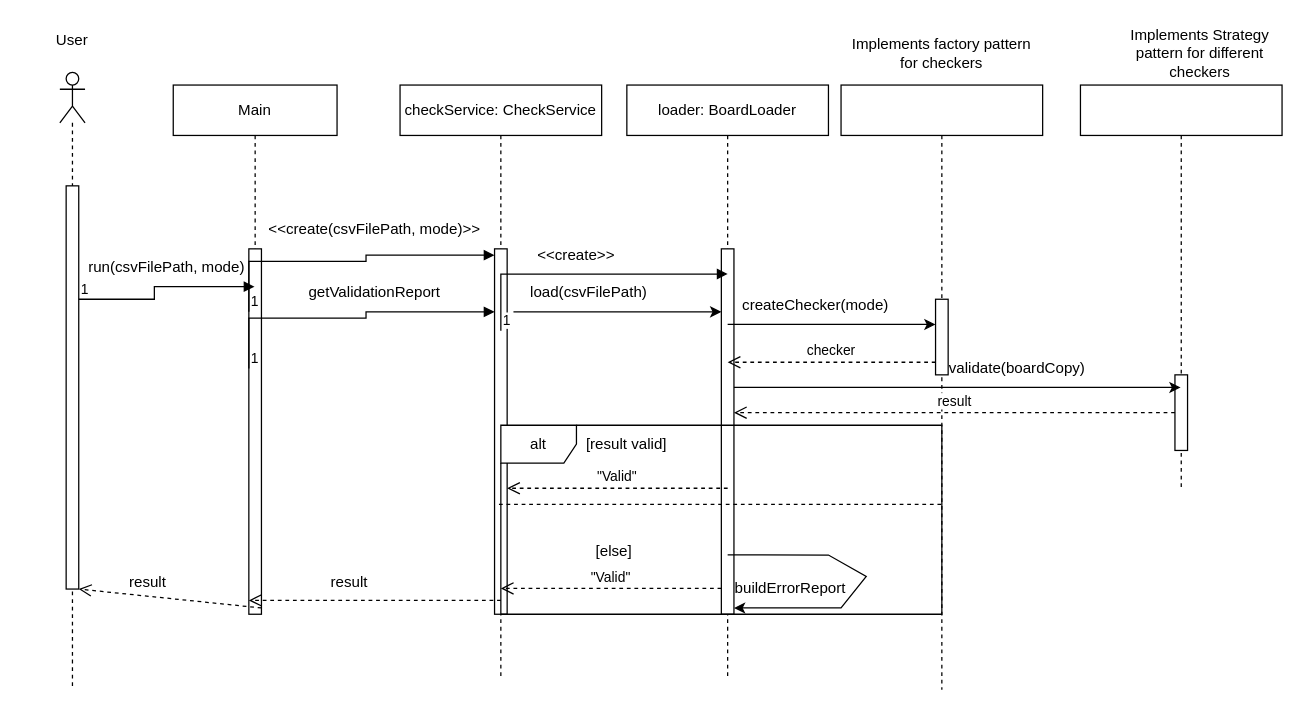
Some shapes in this 1315 by 712 pixel diagram are drawn without their labels. Each missing label, with the box of its shape:
CheckerFactory: (840, 84, 1043, 690)
SudokuChecker: (1079, 84, 1282, 488)
